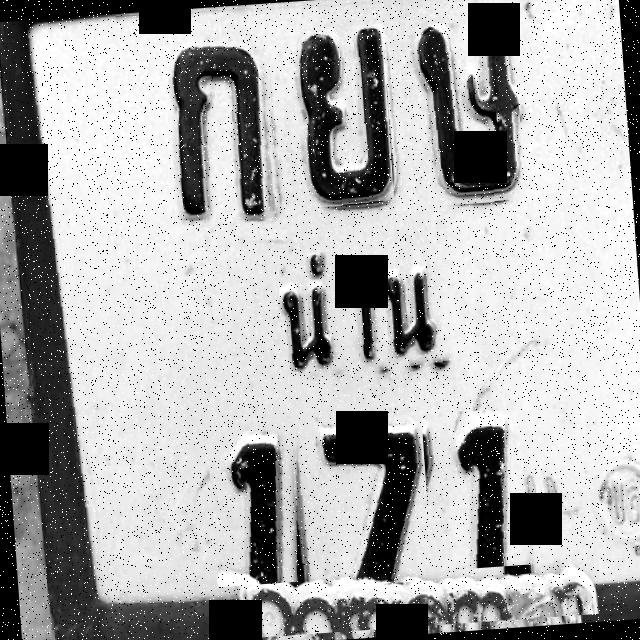letters: (161, 19, 281, 228), (405, 18, 526, 208), (310, 409, 432, 588), (286, 22, 394, 210), (442, 404, 546, 570), (206, 417, 307, 587)
license-plate: (14, 0, 640, 639)
province: (250, 242, 470, 386)
